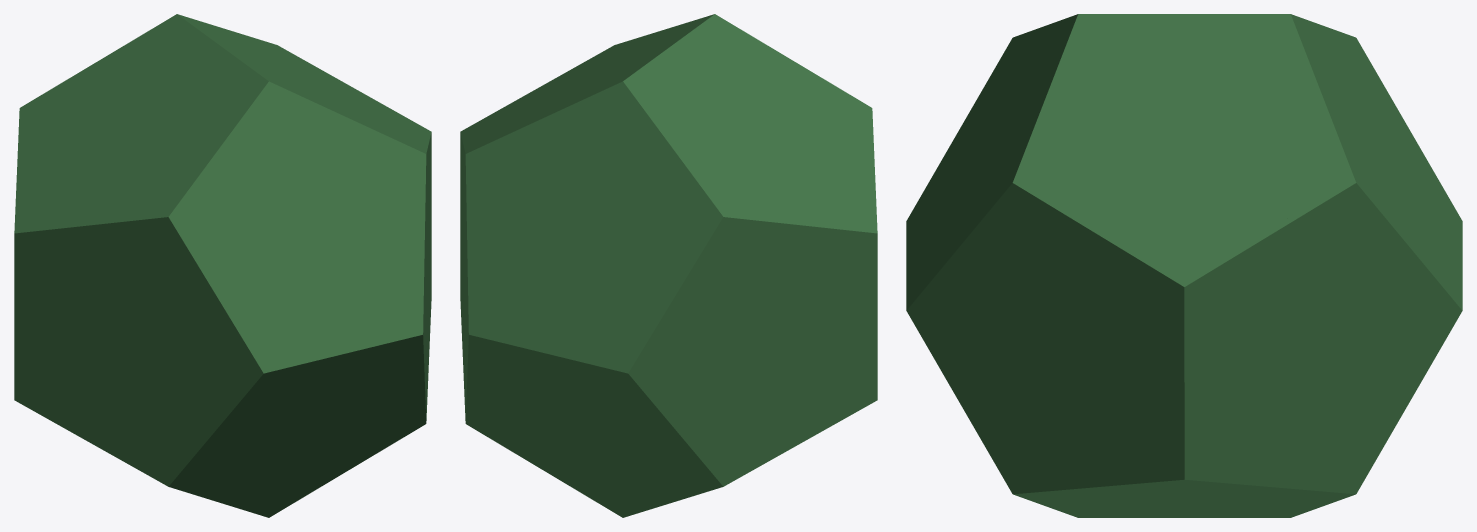
The model's file is Planetv43.fbx.
The picture shows the model from 3 angles, left to right: view 1: azimuth 30°, elevation 25°; view 2: azimuth 150°, elevation 25°; view 3: azimuth 270°, elevation 25°; orthographic projection. The views are drawn at different scales.
Parts seen in each view (by area): view 1: DodecagonVideTuile.008, DodecagonVideTuile.010, DodecagonVideTuile.001, DodecagonVideTuile.009, DodecagonVide, DodecagonVideTuile.006, DodecagonVideTuile.007; view 2: DodecagonVideTuile.002, DodecagonVideTuile.003, DodecagonVideTuile.001, DodecagonVideTuile.004, DodecagonVide, DodecagonVideTuile.006, DodecagonVideTuile.005; view 3: DodecagonVideTuile.006, DodecagonVideTuile.005, DodecagonVideTuile.007, DodecagonVide, DodecagonVideTuile.002, DodecagonVideTuile.008, DodecagonVideTuile.012.
Boxes of the visible parts, left/top/right/bottom form: DodecagonVideTuile.008: left=174, top=87, right=421, bottom=367; DodecagonVideTuile.010: left=19, top=222, right=257, bottom=480; DodecagonVideTuile.001: left=19, top=19, right=262, bottom=229; DodecagonVideTuile.009: left=174, top=338, right=421, bottom=514; DodecagonVide: left=14, top=14, right=431, bottom=517; DodecagonVideTuile.006: left=183, top=17, right=426, bottom=150; DodecagonVideTuile.007: left=423, top=139, right=431, bottom=415; DodecagonVideTuile.002: left=470, top=87, right=717, bottom=367; DodecagonVideTuile.003: left=634, top=222, right=872, bottom=480; DodecagonVideTuile.001: left=629, top=19, right=872, bottom=229; DodecagonVideTuile.004: left=470, top=338, right=717, bottom=514; DodecagonVide: left=460, top=14, right=877, bottom=517; DodecagonVideTuile.006: left=465, top=17, right=708, bottom=150; DodecagonVideTuile.005: left=460, top=139, right=468, bottom=415; DodecagonVideTuile.006: left=1020, top=19, right=1348, bottom=280; DodecagonVideTuile.005: left=1189, top=190, right=1455, bottom=488; DodecagonVideTuile.007: left=913, top=190, right=1179, bottom=488; DodecagonVide: left=906, top=14, right=1462, bottom=517; DodecagonVideTuile.002: left=1295, top=20, right=1459, bottom=303; DodecagonVideTuile.008: left=909, top=20, right=1073, bottom=303; DodecagonVideTuile.012: left=1020, top=480, right=1348, bottom=517.
Size of the model in its own units: 187 by 187 by 187.
